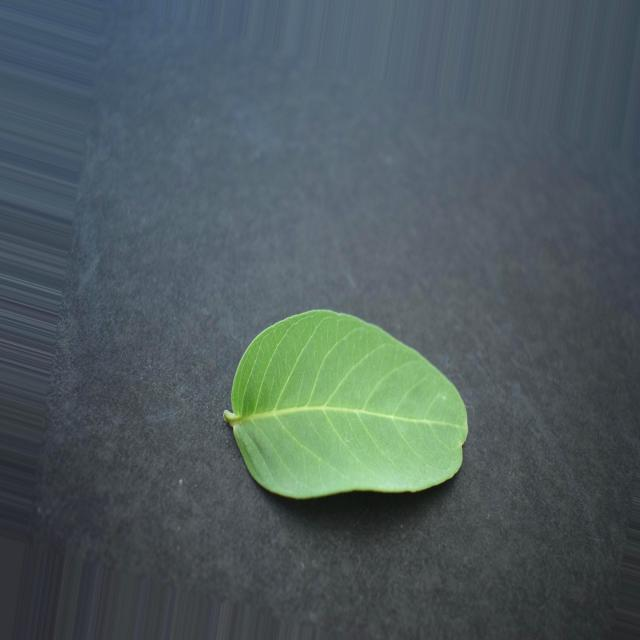Healthy: (224, 309, 468, 499)
